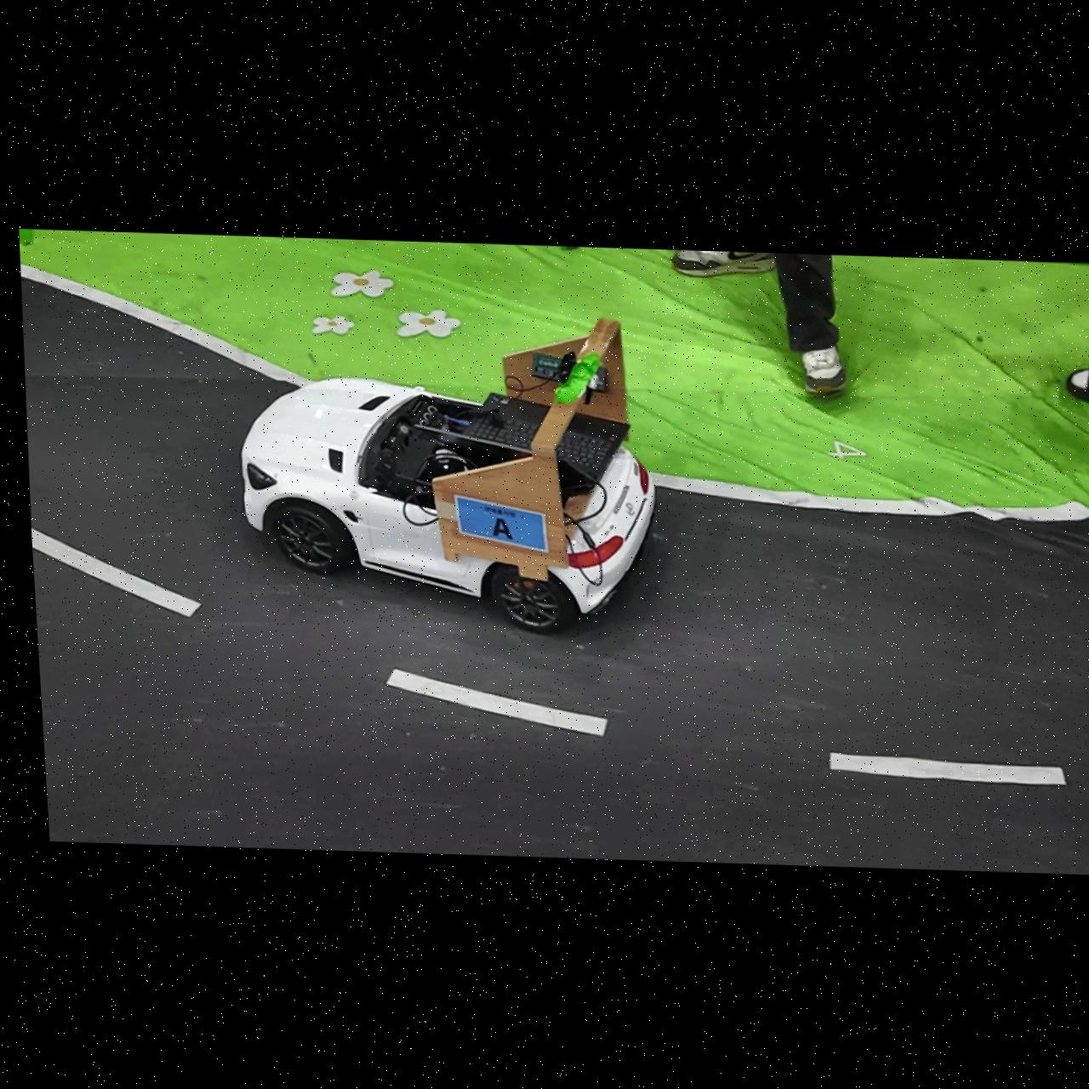broken_line: (32, 528, 200, 616), (386, 670, 606, 736), (830, 752, 1065, 784)
